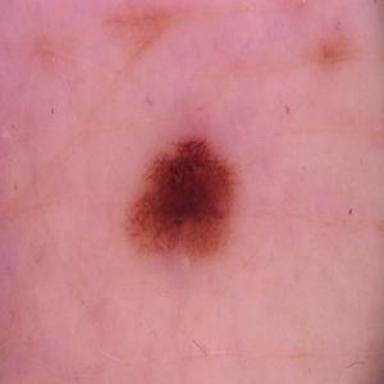Melanoma: (126, 137, 236, 259)
